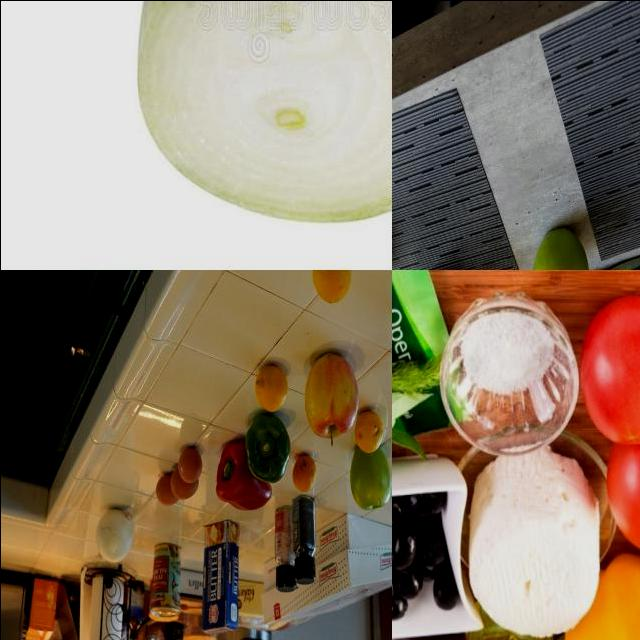bell_pepper: (564, 553, 640, 640), (214, 443, 274, 515), (240, 407, 292, 485), (290, 502, 320, 586)
egg: (165, 461, 199, 499), (174, 441, 204, 483), (154, 471, 180, 508)
onion: (134, 1, 392, 234), (91, 506, 137, 561)
tomato: (586, 298, 640, 444), (606, 427, 640, 561)
